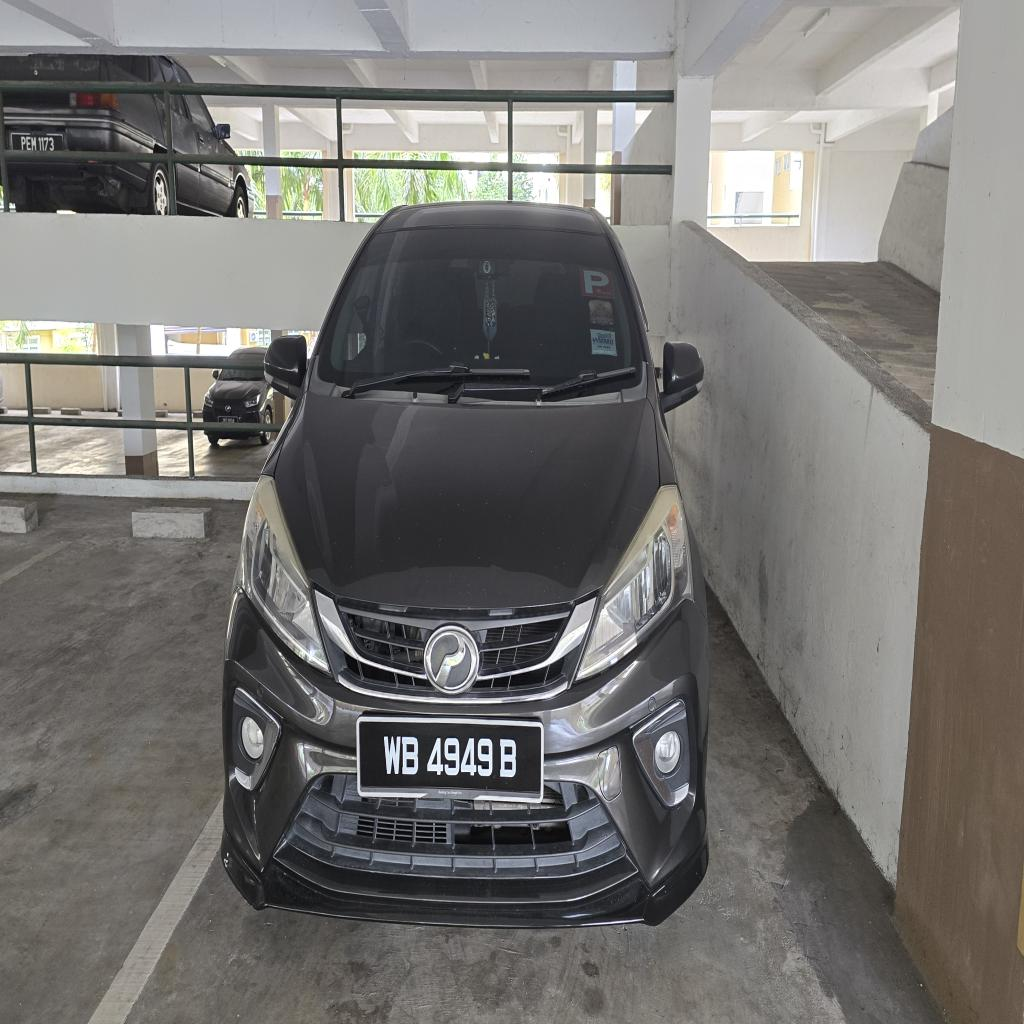car: (222, 204, 708, 925)
car plate: (357, 716, 543, 801)
